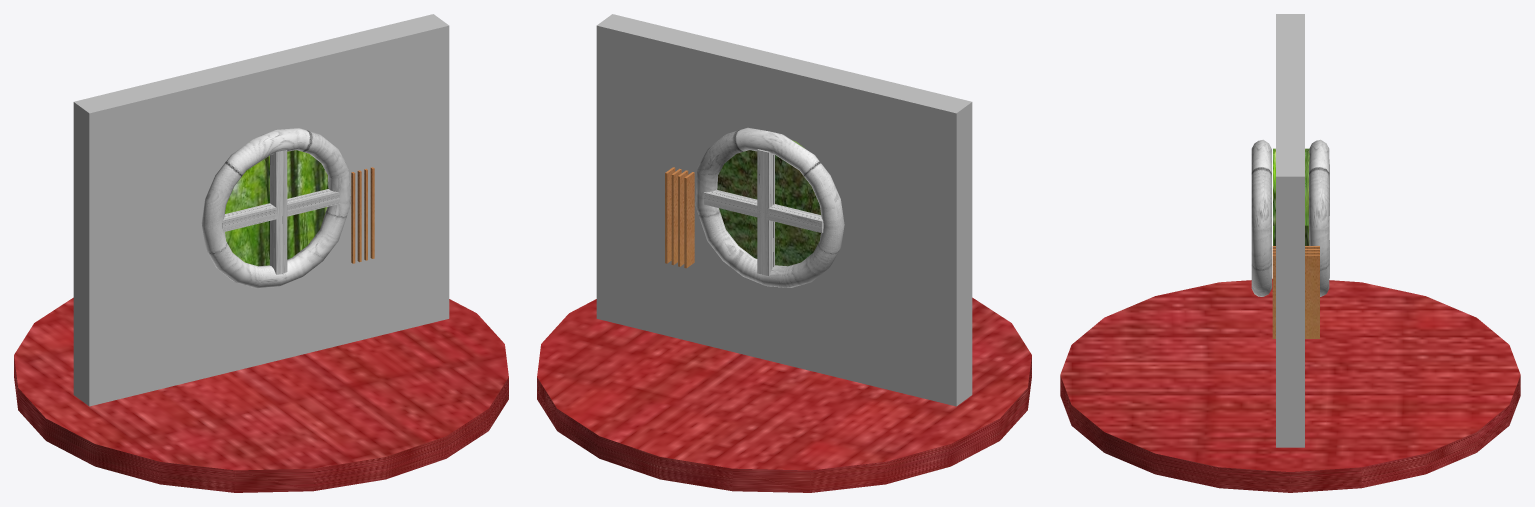
The model's file is 3-1 window.obj.
3 views of the same model, side by side, from view 1: azimuth 30°, elevation 25°; view 2: azimuth 150°, elevation 25°; view 3: azimuth 270°, elevation 25° (orthographic). The views are drawn at different scales.
Visible parts, largest first — view 1: window:polySurface1 polySurface38, polySurface37 window:polySurface1, window:polySurface1 polySurface39, window:polySurface1 polySurface41, window:polySurface1 polySurface42, window:polySurface1 polySurface43; view 2: window:polySurface1 polySurface38, polySurface37 window:polySurface1, window:polySurface1 polySurface40, window:polySurface1 polySurface41, window:polySurface1 polySurface44, window:polySurface1 polySurface45, window:polySurface1 polySurface51, window:polySurface1 polySurface50, window:polySurface1 polySurface53, window:polySurface1 polySurface52; view 3: polySurface37 window:polySurface1, window:polySurface1 polySurface38, window:polySurface1 polySurface39, window:polySurface1 polySurface40, window:polySurface1 polySurface53, window:polySurface1 polySurface41.
Part boxes in pixels (left/top/right/bottom): window:polySurface1 polySurface38: left=73, top=14, right=449, bottom=406; polySurface37 window:polySurface1: left=14, top=297, right=508, bottom=492; window:polySurface1 polySurface39: left=201, top=128, right=350, bottom=288; window:polySurface1 polySurface41: left=225, top=150, right=328, bottom=266; window:polySurface1 polySurface42: left=270, top=150, right=287, bottom=274; window:polySurface1 polySurface43: left=222, top=189, right=339, bottom=232; window:polySurface1 polySurface38: left=596, top=14, right=972, bottom=406; polySurface37 window:polySurface1: left=537, top=297, right=1031, bottom=492; window:polySurface1 polySurface40: left=695, top=127, right=844, bottom=287; window:polySurface1 polySurface41: left=717, top=140, right=820, bottom=266; window:polySurface1 polySurface44: left=757, top=149, right=774, bottom=275; window:polySurface1 polySurface45: left=704, top=189, right=823, bottom=232; window:polySurface1 polySurface51: left=684, top=172, right=694, bottom=268; window:polySurface1 polySurface50: left=678, top=170, right=688, bottom=266; window:polySurface1 polySurface53: left=665, top=167, right=675, bottom=263; window:polySurface1 polySurface52: left=671, top=168, right=681, bottom=265; polySurface37 window:polySurface1: left=1060, top=278, right=1520, bottom=492; window:polySurface1 polySurface38: left=1276, top=14, right=1304, bottom=447; window:polySurface1 polySurface39: left=1251, top=139, right=1271, bottom=296; window:polySurface1 polySurface40: left=1309, top=139, right=1329, bottom=296; window:polySurface1 polySurface53: left=1305, top=254, right=1319, bottom=338; window:polySurface1 polySurface41: left=1273, top=148, right=1309, bottom=245.
Bounding box in the file's own units: 640 × 461 × 640.
